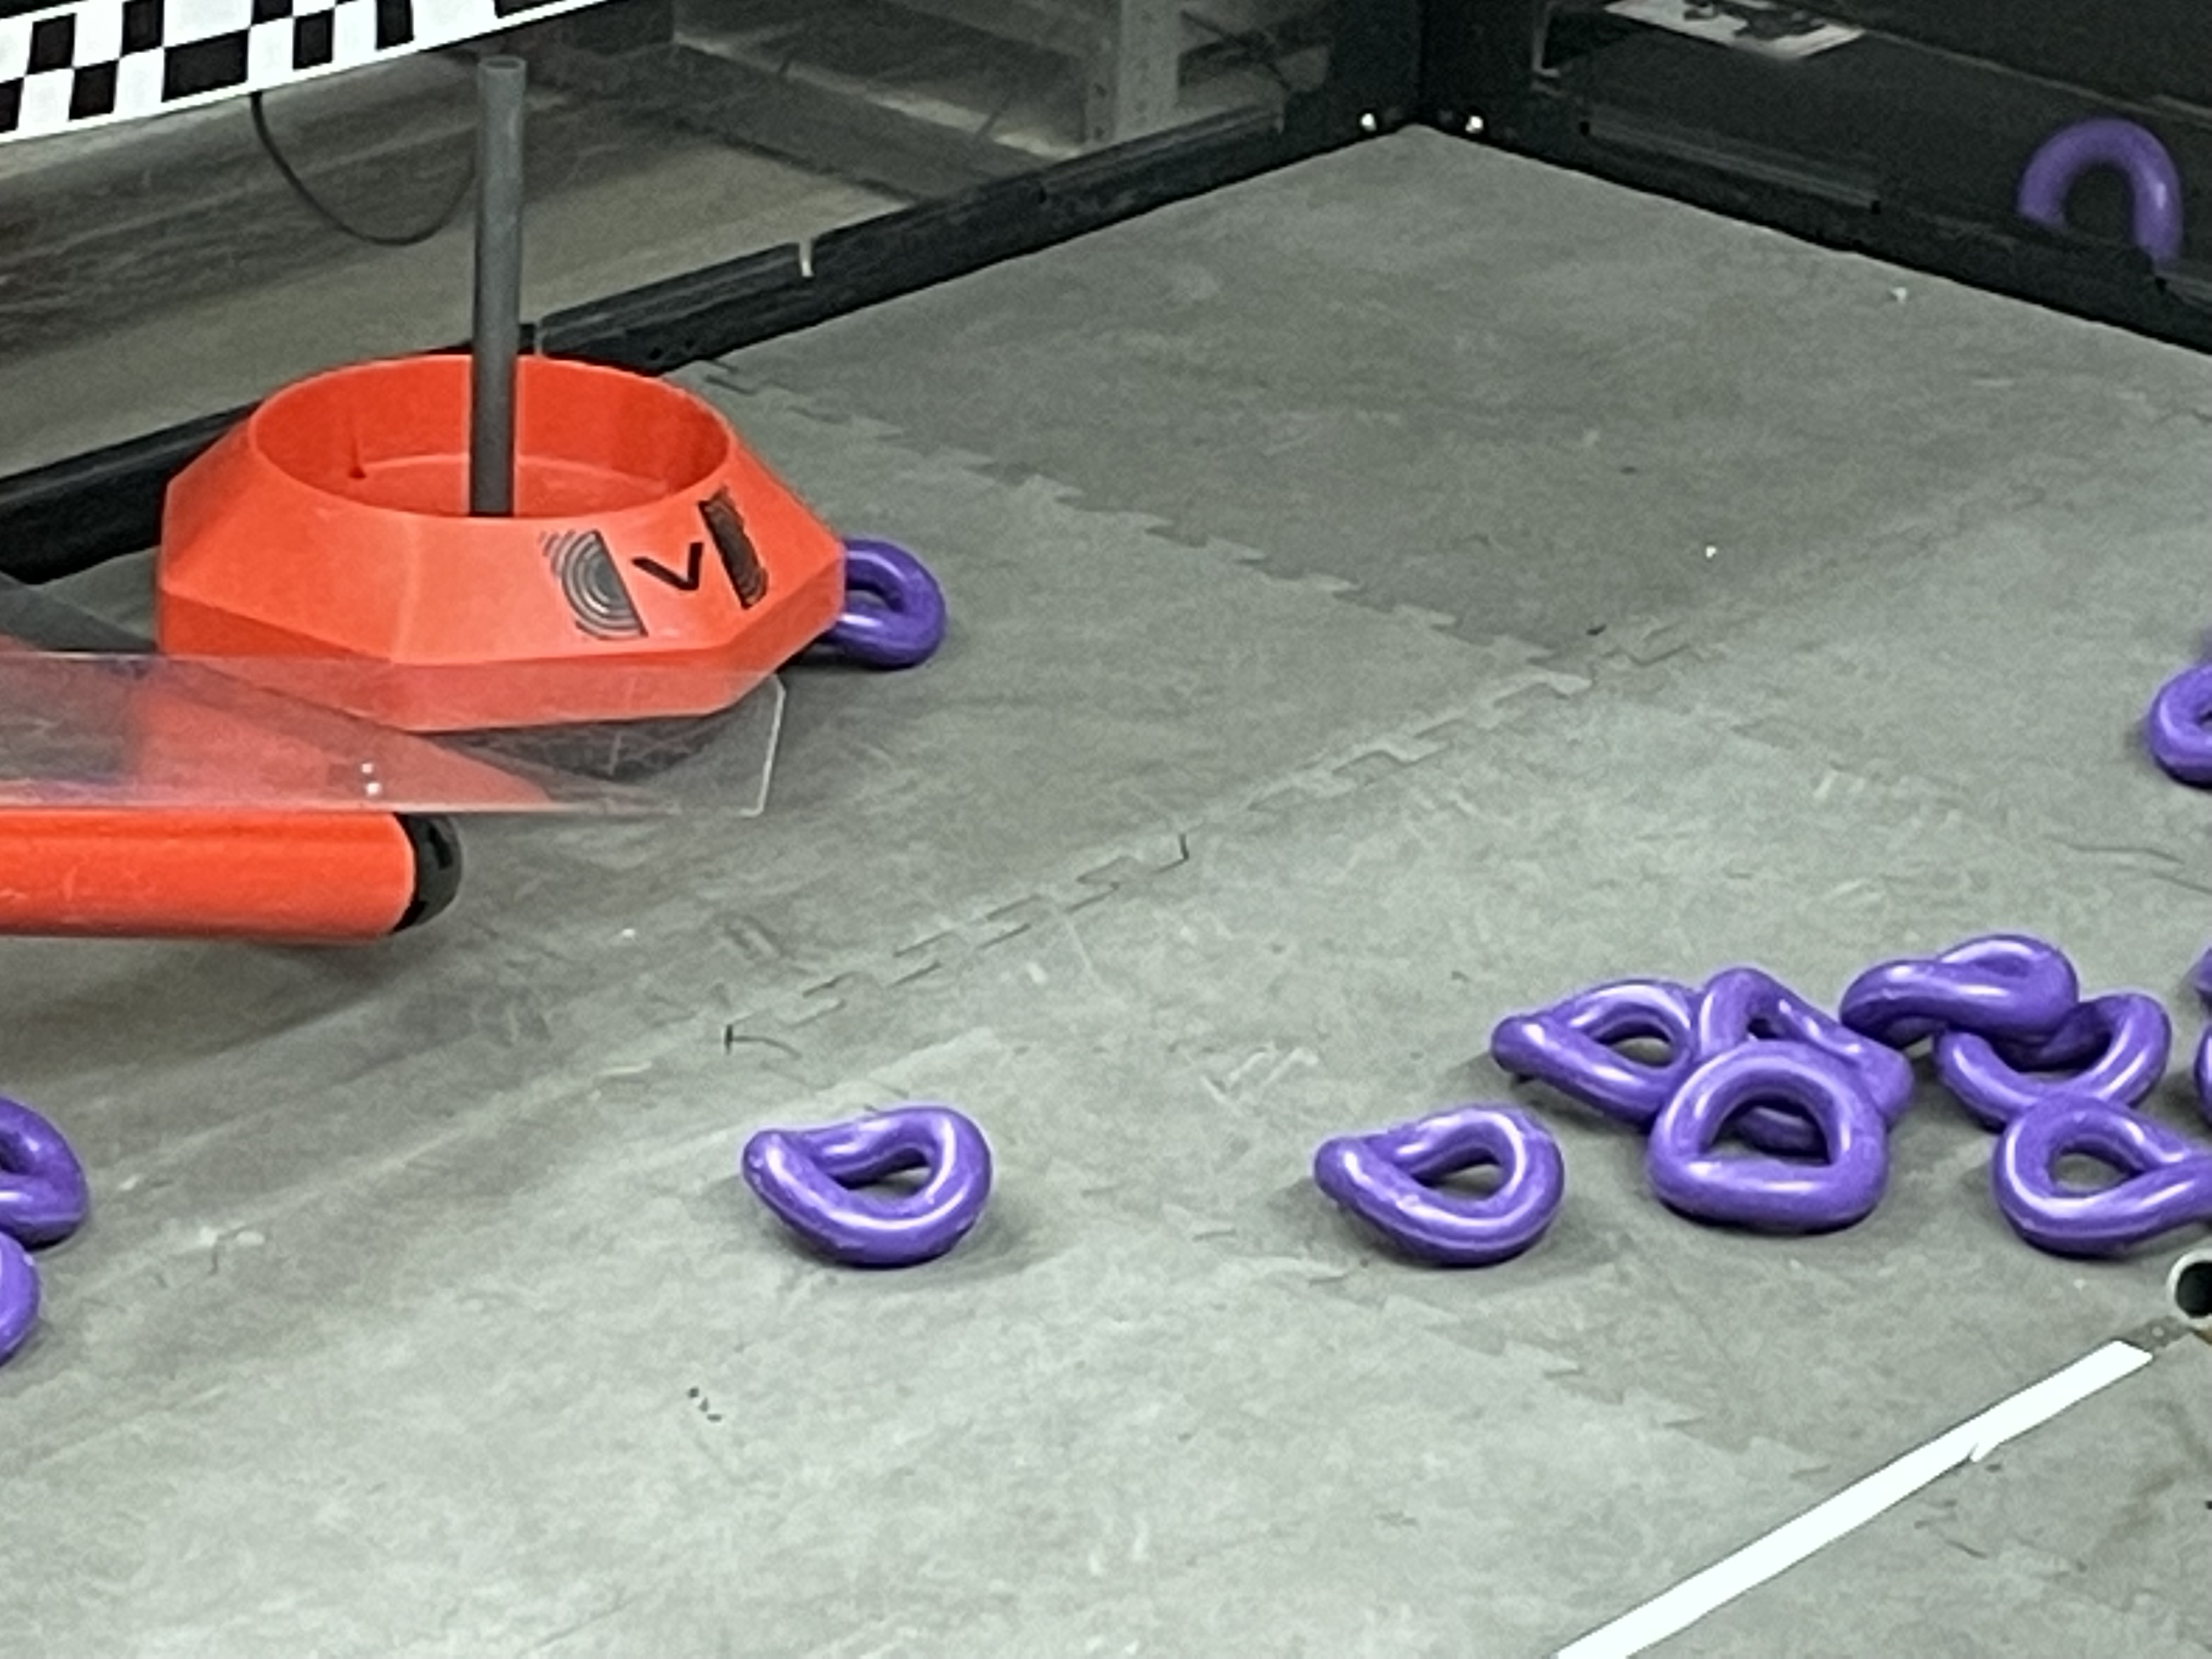ring: (1648, 1044, 1890, 1244), (742, 1103, 991, 1272), (1313, 1105, 1566, 1269), (1693, 957, 1914, 1131), (1487, 971, 1721, 1124), (1994, 1089, 2212, 1251), (1926, 988, 2179, 1112), (1829, 932, 2083, 1039), (768, 533, 953, 678), (0, 1096, 96, 1243), (2144, 650, 2212, 781), (0, 1236, 42, 1364)
